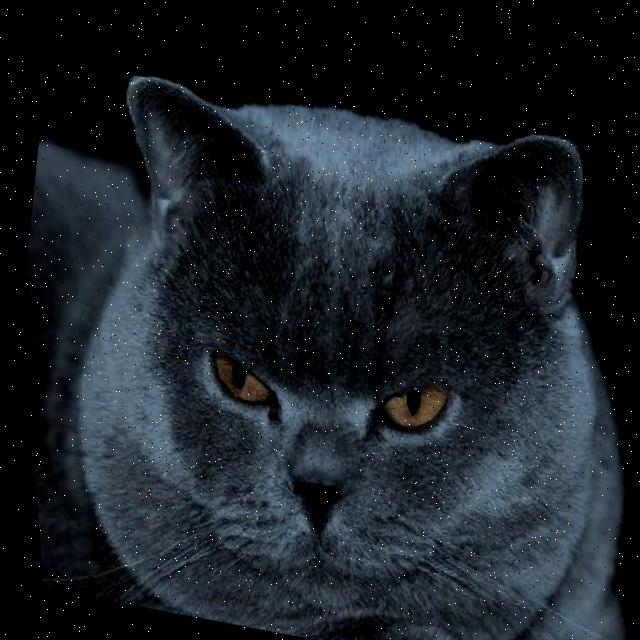British Shorthair: (1, 20, 640, 640)
